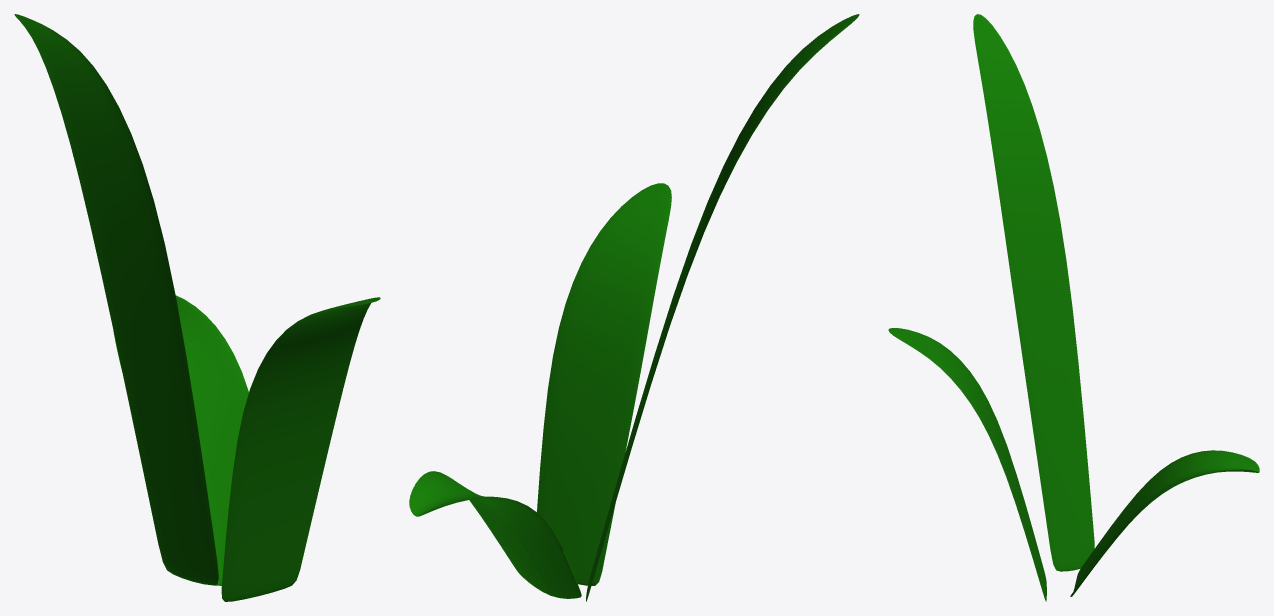
Rendered from grass.fbx.
3 views of the same model, side by side, from view 1: azimuth 30°, elevation 25°; view 2: azimuth 150°, elevation 25°; view 3: azimuth 270°, elevation 25° (orthographic). The views are drawn at different scales.
Parts seen in each view (by area): view 1: Cube.002; view 2: Cube.002; view 3: Cube.002.
Boxes of the visible parts, bbox=[...] form: Cube.002: bbox=[14, 14, 380, 601]; Cube.002: bbox=[409, 14, 859, 601]; Cube.002: bbox=[888, 14, 1259, 601].
Size of the model in its own units: 345 by 654 by 458.
